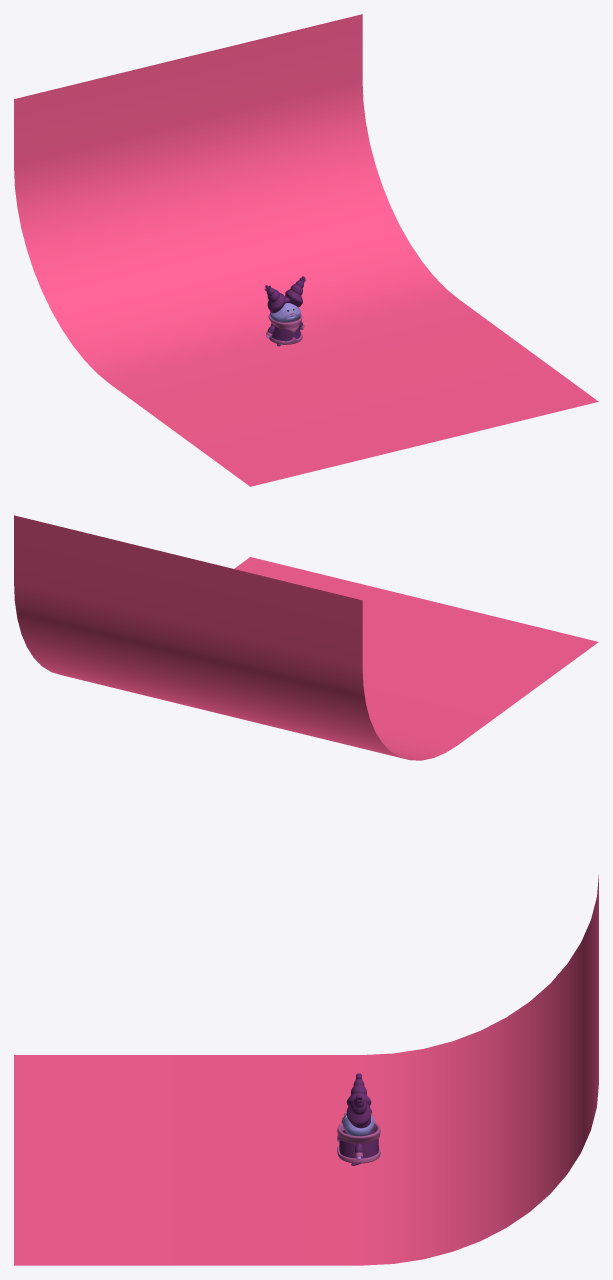
Rendered from Chowder.fbx.
3 views of the same model, one above another, from view 1: azimuth 30°, elevation 25°; view 2: azimuth 150°, elevation 25°; view 3: azimuth 270°, elevation 25° (orthographic). The views are drawn at different scales.
Parts seen in each view (by area): view 1: Plane, Cylinder.004; view 2: Plane; view 3: Plane, Cylinder.004.
Part boxes in pixels (x1,y1,x2,y2): Plane: [14, 14, 598, 486]; Cylinder.004: [264, 276, 305, 313]; Plane: [14, 515, 598, 760]; Plane: [14, 875, 598, 1265]; Cylinder.004: [346, 1073, 371, 1128].
Size of the model in its own units: 1864 by 1097 by 2189.
